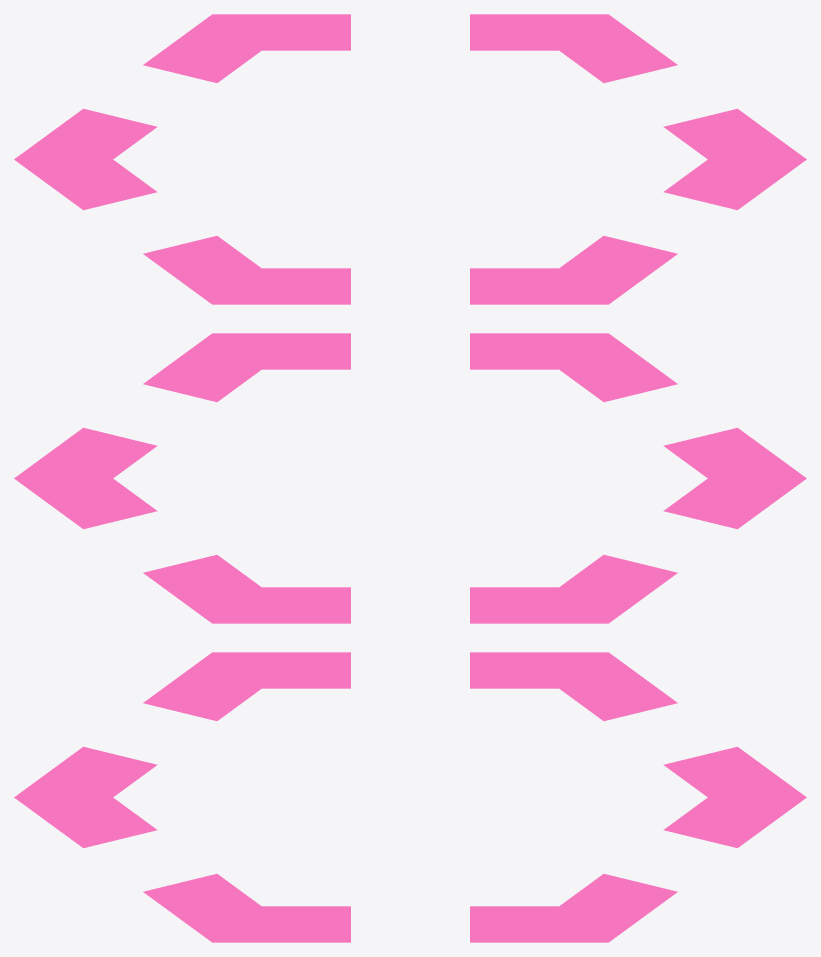
The model's file is cursor_reverse.glb.
The picture shows the model from 3 angles, top to bottom: view 1: azimuth 30°, elevation 25°; view 2: azimuth 150°, elevation 25°; view 3: azimuth 270°, elevation 25°; orthographic projection.
Parts seen in each view (by area): view 1: Circle; view 2: Circle; view 3: Circle.
Part boxes in pixels (x1,y1,x2,y2): Circle: (14,14,806,304); Circle: (14,333,806,623); Circle: (14,652,806,942).
Bounding box in the file's own units: 1.73 × 0 × 2.
